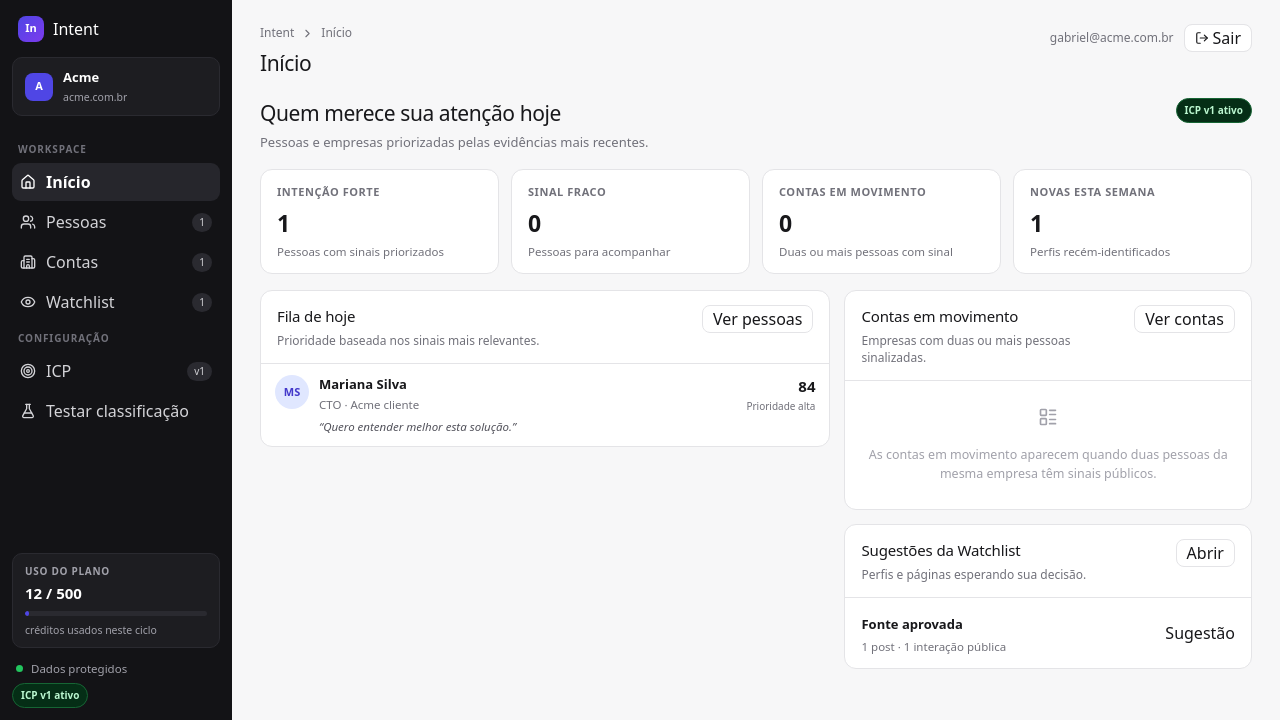
Test: IntentV1Workspace › shows the real classification test without prototype samples
Expected: the heading "Início" is shown, [260,49,311,77]
Click the button "Testar classificação".
click(116, 411)  # box [12,392,220,430]
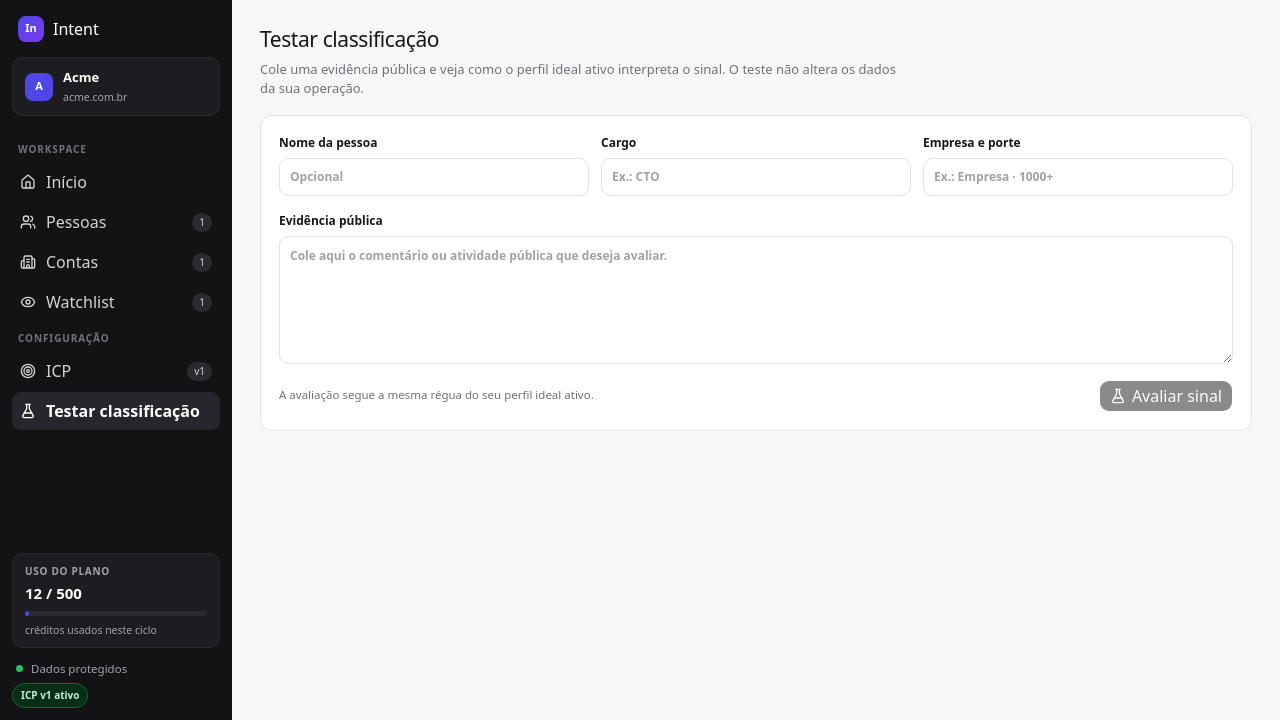
Expected: the number of headings "Testar classificação" is 1, [260,25,439,53]
Now the heading "Testar classificação" is shown, box [260,25,439,53]
Replace the text in the text box labelled "Evidência pública" with "Quero avaliar uma solução para este problema." at (756,300), box [279,236,1233,364]
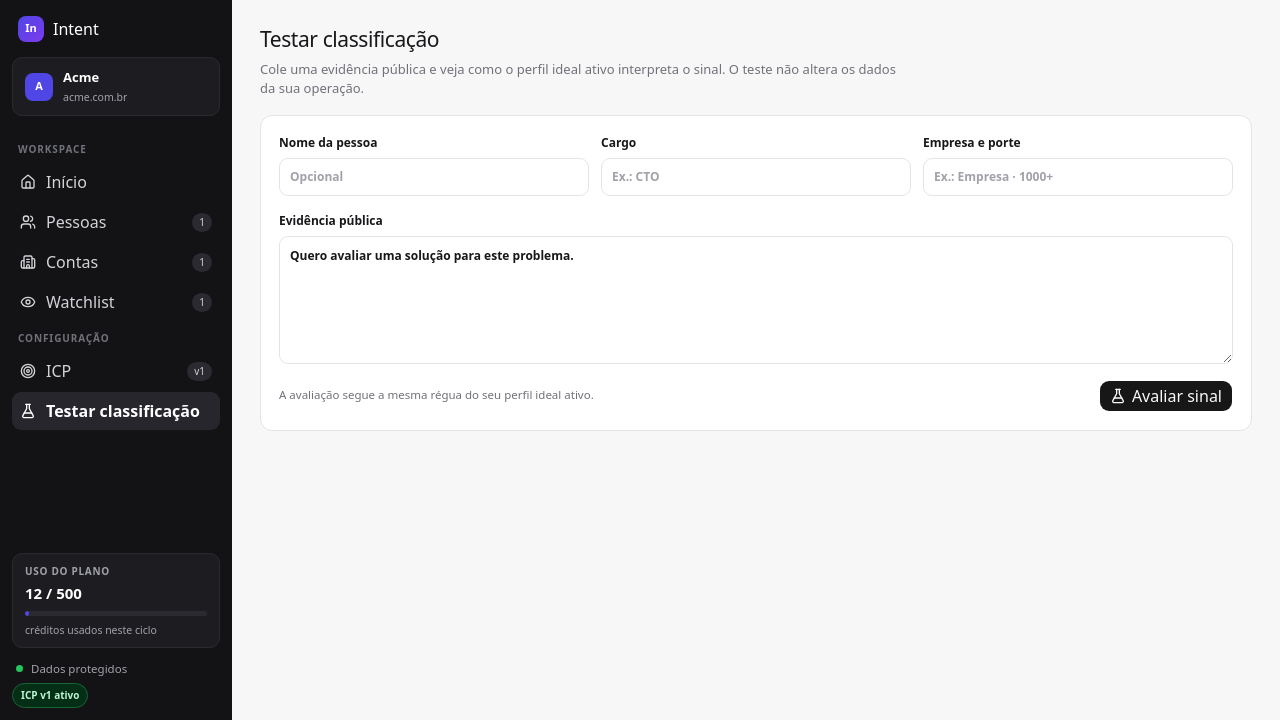
Click the button "Avaliar sinal".
click(1166, 396)  # box [1099,380,1233,412]
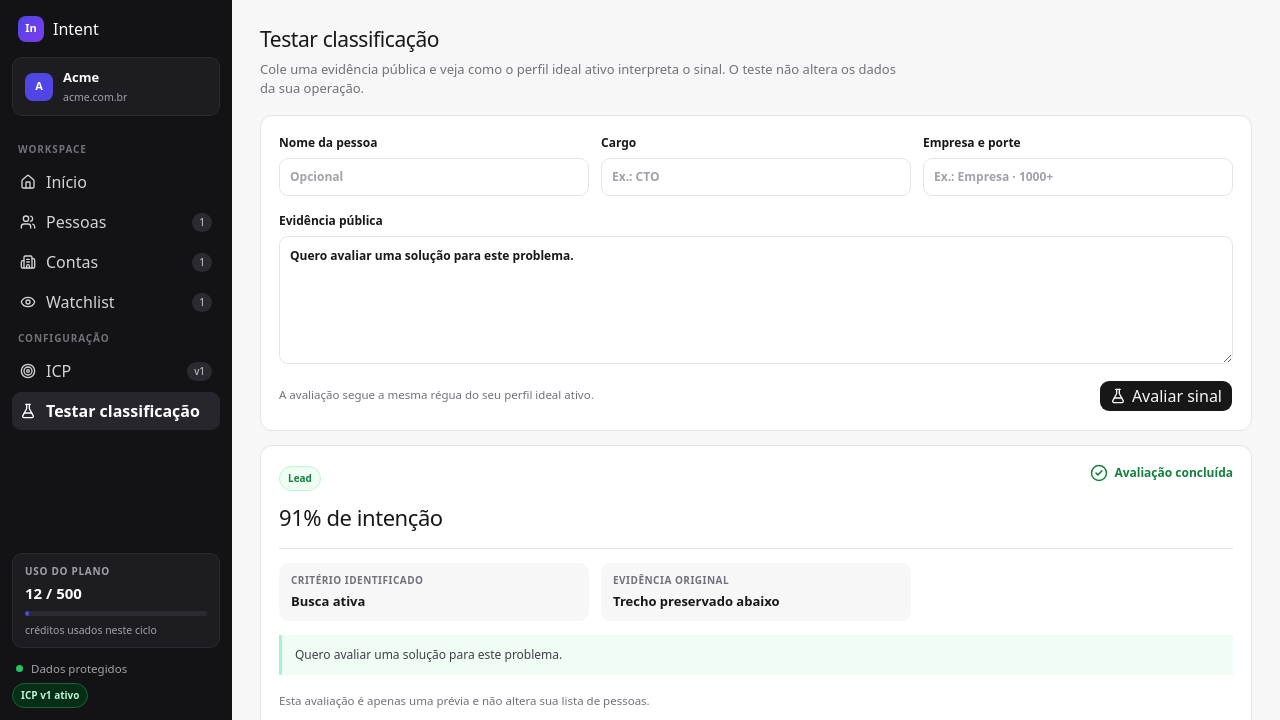
Now the text "Avaliação concluída" is shown, box [1090,464,1233,482]
Now the heading "91% de intenção" is shown, box [279,500,443,534]
